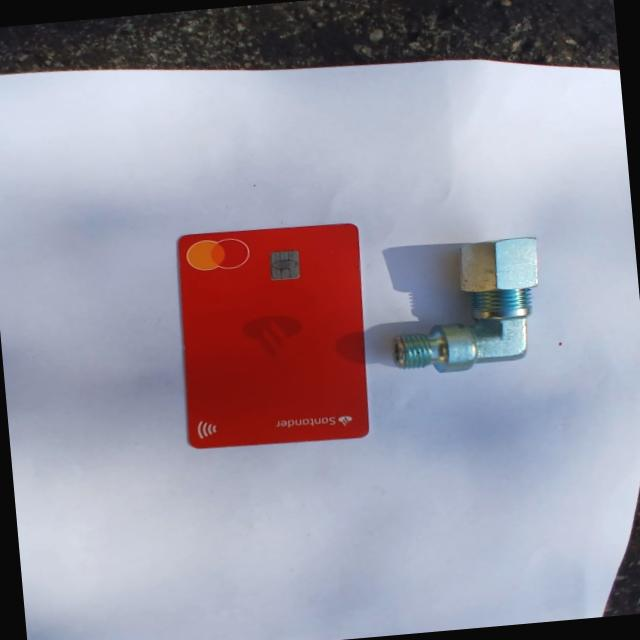cartao: (171, 221, 375, 452)
rosca_externa: (385, 236, 547, 377)
